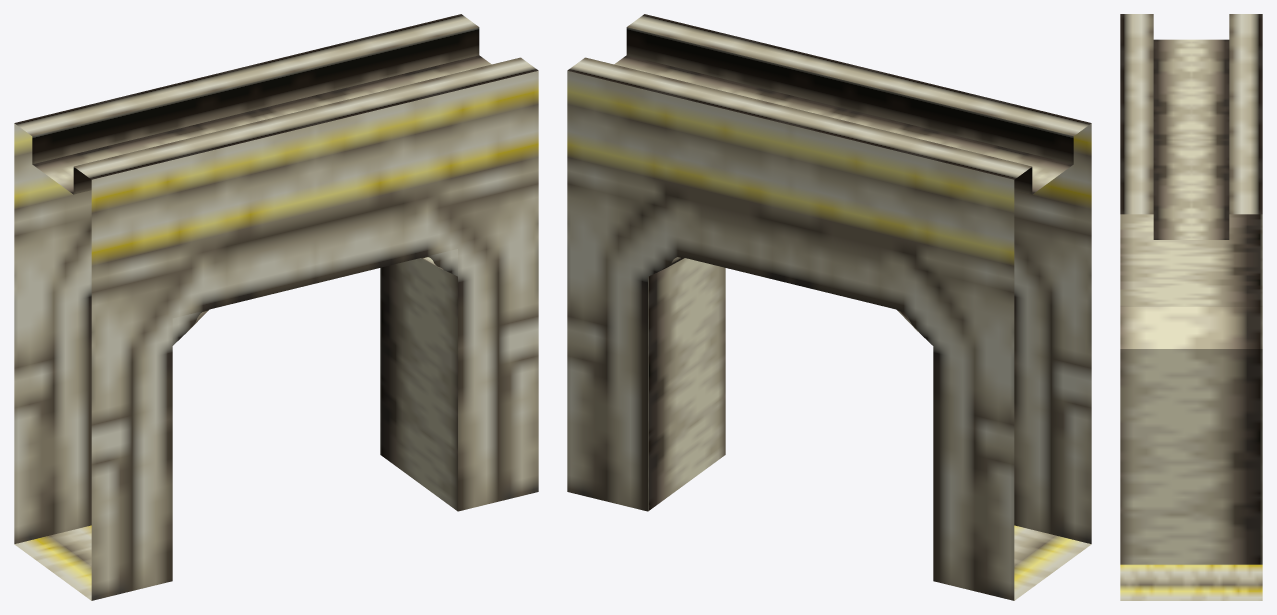
Rendered from Poly_World_Map_Wall_01_Entrance.obj.
3 views of the same model, side by side, from view 1: azimuth 30°, elevation 25°; view 2: azimuth 150°, elevation 25°; view 3: azimuth 270°, elevation 25° (orthographic). The views are drawn at different scales.
Parts seen in each view (by area): view 1: Grid.001; view 2: Grid.001; view 3: Grid.001.
Boxes of the visible parts, x1,y1,x2,y2 form: Grid.001: (14,14,538,600); Grid.001: (567,14,1091,600); Grid.001: (1120,14,1262,600).
Bounding box in the file's own units: 1 × 0.9 × 0.3.
1 material, 1 textured.
